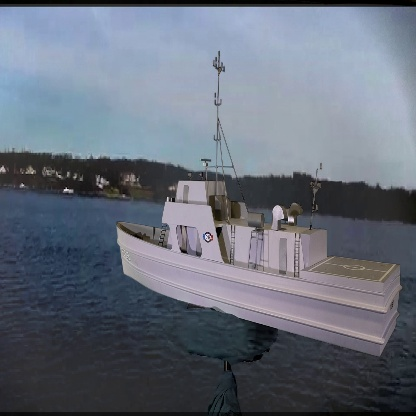YP689: (116, 52, 402, 357)
